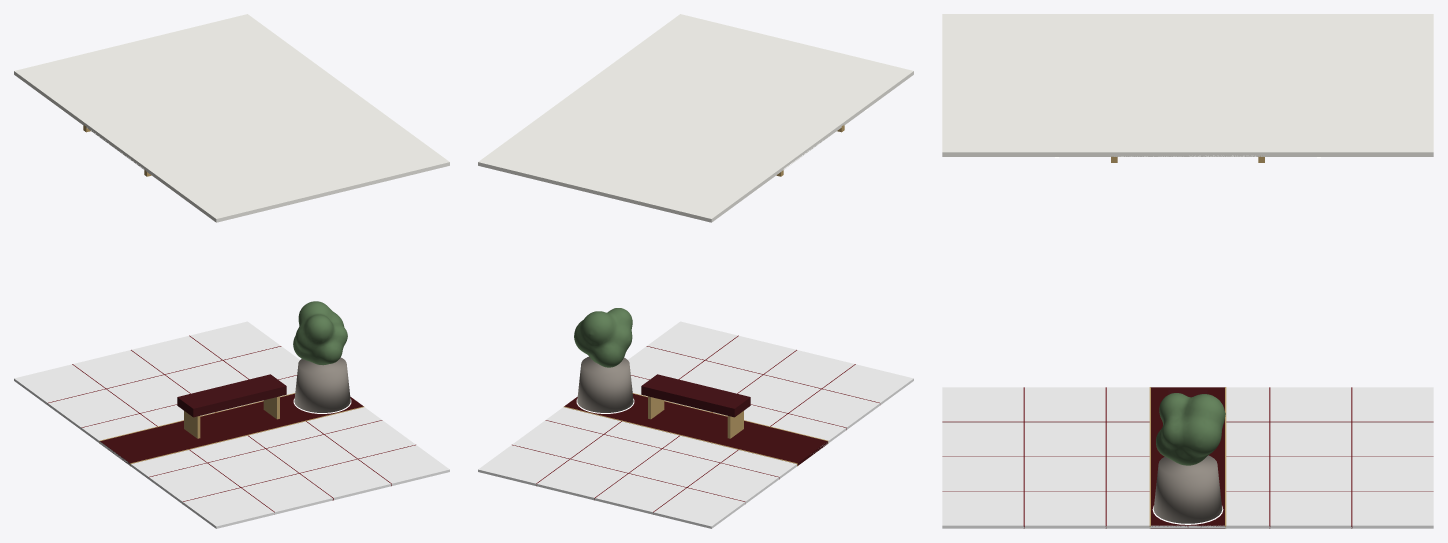
Rendered from fraul_galerie.glb.
3 renders of one model, left to right at view 1: azimuth 30°, elevation 25°; view 2: azimuth 150°, elevation 25°; view 3: azimuth 270°, elevation 25°, orthographic. The views are drawn at different scales.
Parts seen in each view (by area): view 1: Gal_Plafond, Gal_Sol, Gal_Sol_Bande, Gal_Arbuste, Gal_Jardiniere, Gal_Banc_Assise, Gal_Sol_Joints, Gal_Banc_Pieds, Gal_Sol_Bande_Filets; view 2: Gal_Plafond, Gal_Sol, Gal_Sol_Bande, Gal_Arbuste, Gal_Jardiniere, Gal_Banc_Assise, Gal_Sol_Joints, Gal_Banc_Pieds, Gal_Sol_Bande_Filets; view 3: Gal_Plafond, Gal_Sol, Gal_Arbuste, Gal_Jardiniere, Gal_Sol_Joints, Gal_Sol_Bande.
Boxes of the visible parts, x1,y1,x2,y2 form: Gal_Plafond: (14, 14, 449, 222); Gal_Sol: (14, 321, 449, 528); Gal_Sol_Bande: (100, 393, 363, 464); Gal_Arbuste: (293, 301, 347, 365); Gal_Jardiniere: (294, 357, 350, 412); Gal_Banc_Assise: (177, 374, 286, 417); Gal_Sol_Joints: (47, 335, 415, 512); Gal_Banc_Pieds: (184, 396, 279, 438); Gal_Sol_Bande_Filets: (99, 393, 364, 466); Gal_Plafond: (478, 14, 913, 222); Gal_Sol: (478, 321, 913, 528); Gal_Sol_Bande: (564, 393, 827, 465); Gal_Arbuste: (574, 308, 632, 367); Gal_Jardiniere: (577, 356, 633, 412); Gal_Banc_Assise: (641, 374, 750, 417); Gal_Sol_Joints: (512, 335, 879, 512); Gal_Banc_Pieds: (648, 396, 743, 438); Gal_Sol_Bande_Filets: (563, 393, 828, 466); Gal_Plafond: (942, 14, 1433, 156); Gal_Sol: (942, 387, 1433, 528); Gal_Arbuste: (1156, 393, 1225, 465); Gal_Jardiniere: (1153, 455, 1222, 523); Gal_Sol_Joints: (942, 387, 1433, 528); Gal_Sol_Bande: (1151, 387, 1224, 528).
Size of the model in its own units: 4 by 5.07 by 6.
